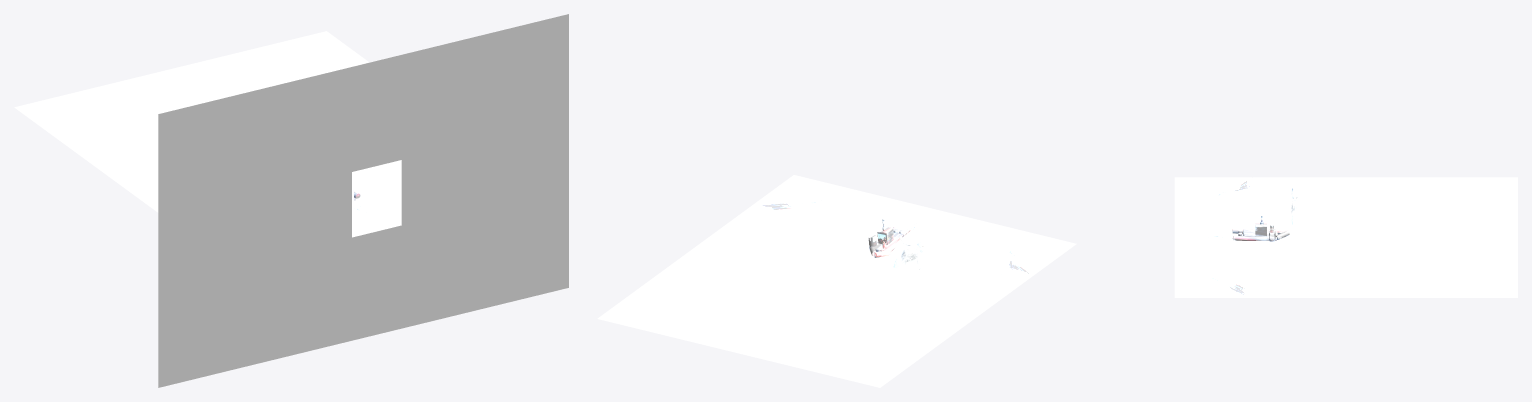
The model's file is 3d_cut.gltf.
3 views of the same model, side by side, from view 1: azimuth 30°, elevation 25°; view 2: azimuth 150°, elevation 25°; view 3: azimuth 270°, elevation 25° (orthographic). The views are drawn at different scales.
Visible parts, largest first — view 1: occlude_object, Plane, Frame; view 2: Plane, Extrude; view 3: Plane, Extrude.
Boxes of the visible parts, x1,y1,x2,y2 form: occlude_object: (158,14,568,387); Plane: (14,31,399,234); Frame: (352,160,401,237); Plane: (597,175,1076,387); Extrude: (868,218,923,270); Plane: (1174,177,1517,297); Extrude: (1232,187,1297,241).
Size of the model in its own units: 4.24 by 2.7 by 3.91.
4 materials, 1 textured.
